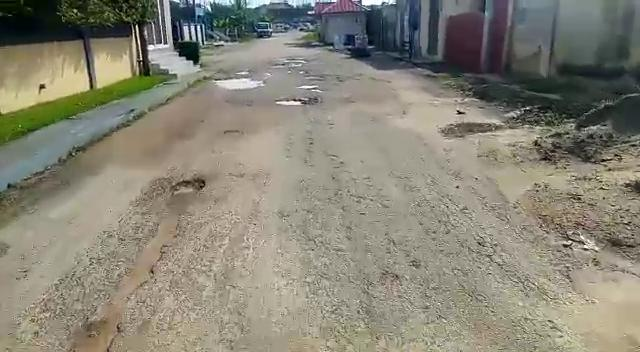pothole: (214, 74, 264, 89), (166, 180, 207, 198), (273, 98, 309, 106), (300, 84, 324, 90)
